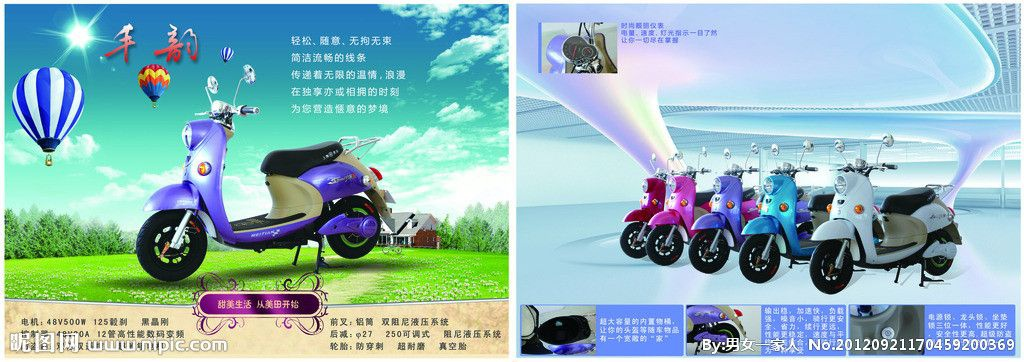non-vehicle: (119, 63, 395, 279), (806, 136, 967, 294), (730, 138, 837, 284), (685, 163, 761, 272), (641, 165, 709, 265)
